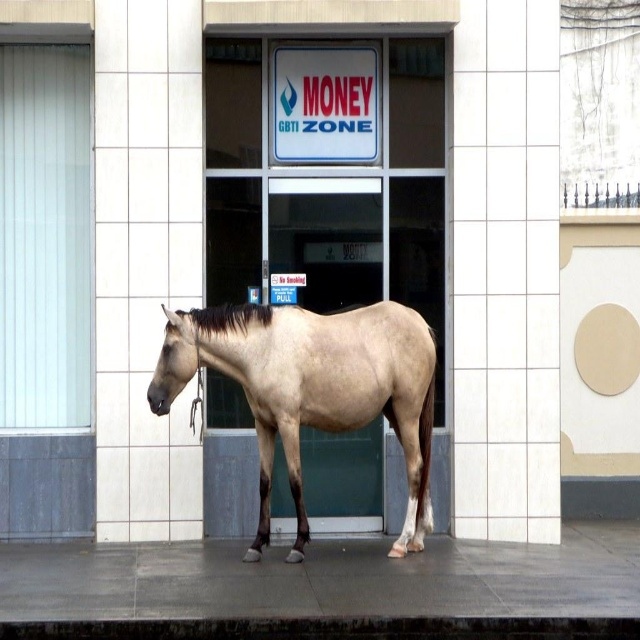Horse: (144, 301, 437, 567)
